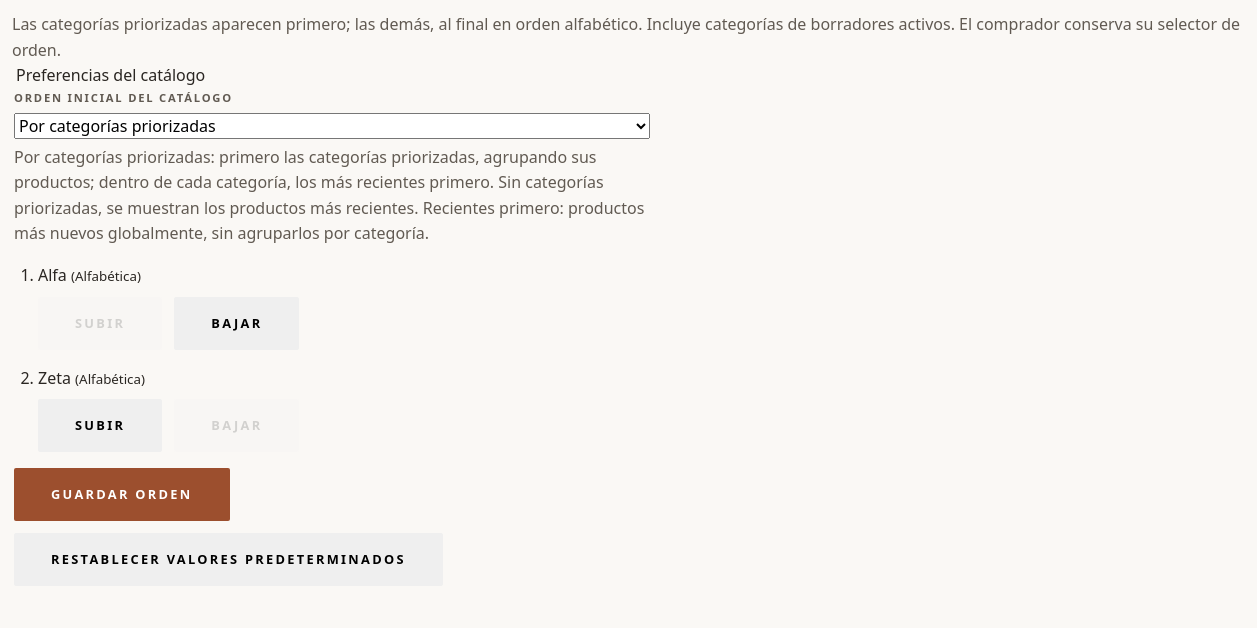
Test case: describe los órdenes y mantiene sus valores internos y la ayuda de categorías
Expected: the dropdown labelled "Orden inicial del catálogo" shows "Por categorías priorizadas", [14,113,650,139]
Expected: the text "Las categorías priorizadas aparecen primero; las demás, al final en orden alfabético" is shown, [12,13,1240,61]
Click the button "Guardar orden".
click(122, 494)  # box [14,468,230,521]
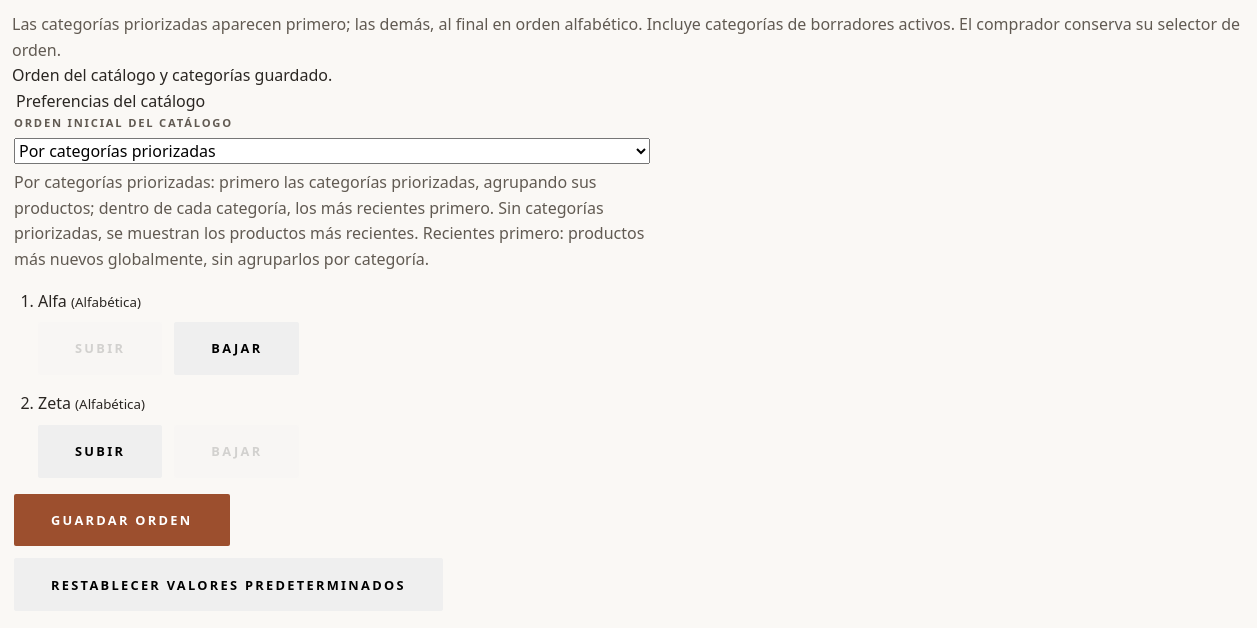
Result: the text "Orden del catálogo y categorías guardado." is shown at [12,64,332,86]
